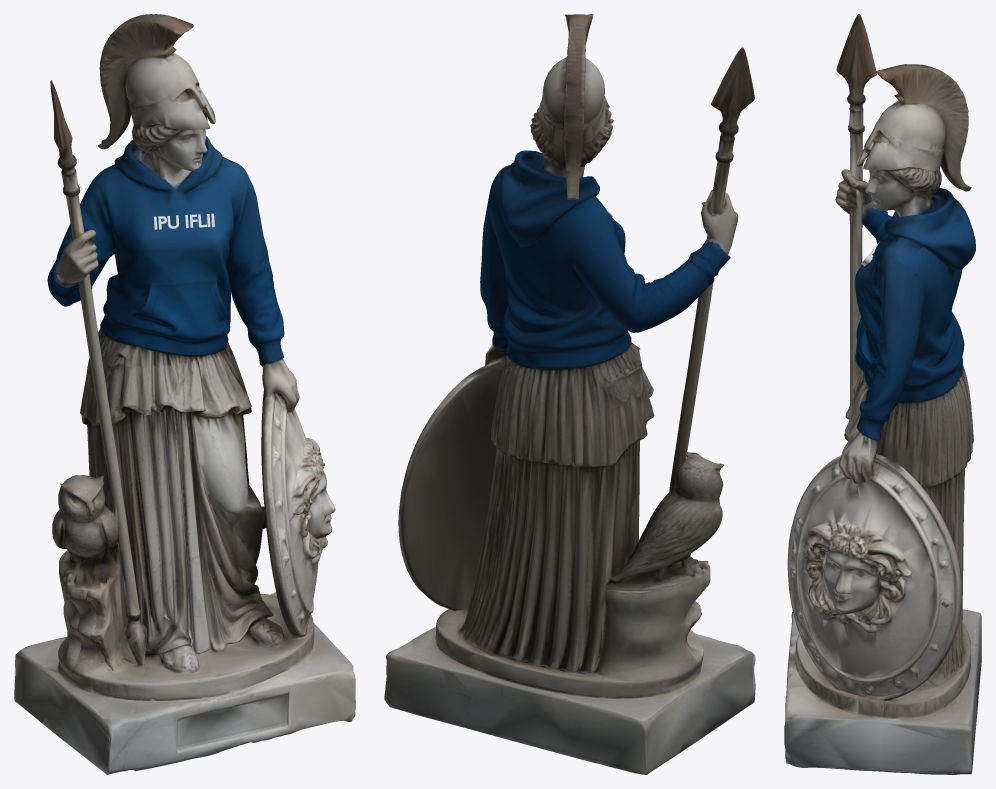
The model's file is AthenaStatue.glb.
3 renders of one model, left to right at view 1: azimuth 30°, elevation 25°; view 2: azimuth 150°, elevation 25°; view 3: azimuth 270°, elevation 25°, orthographic. The views are drawn at different scales.
Visible parts, largest first — view 1: node_0.004; view 2: node_0.004; view 3: node_0.004.
Boxes of the visible parts, x1=… form: node_0.004: x1=14, y1=14, x2=355, y2=774; node_0.004: x1=384, y1=14, x2=755, y2=774; node_0.004: x1=784, y1=14, x2=981, y2=774.
Size of the model in its own units: 0.4829 by 1.08 by 0.3015.
1 material, 1 textured.
